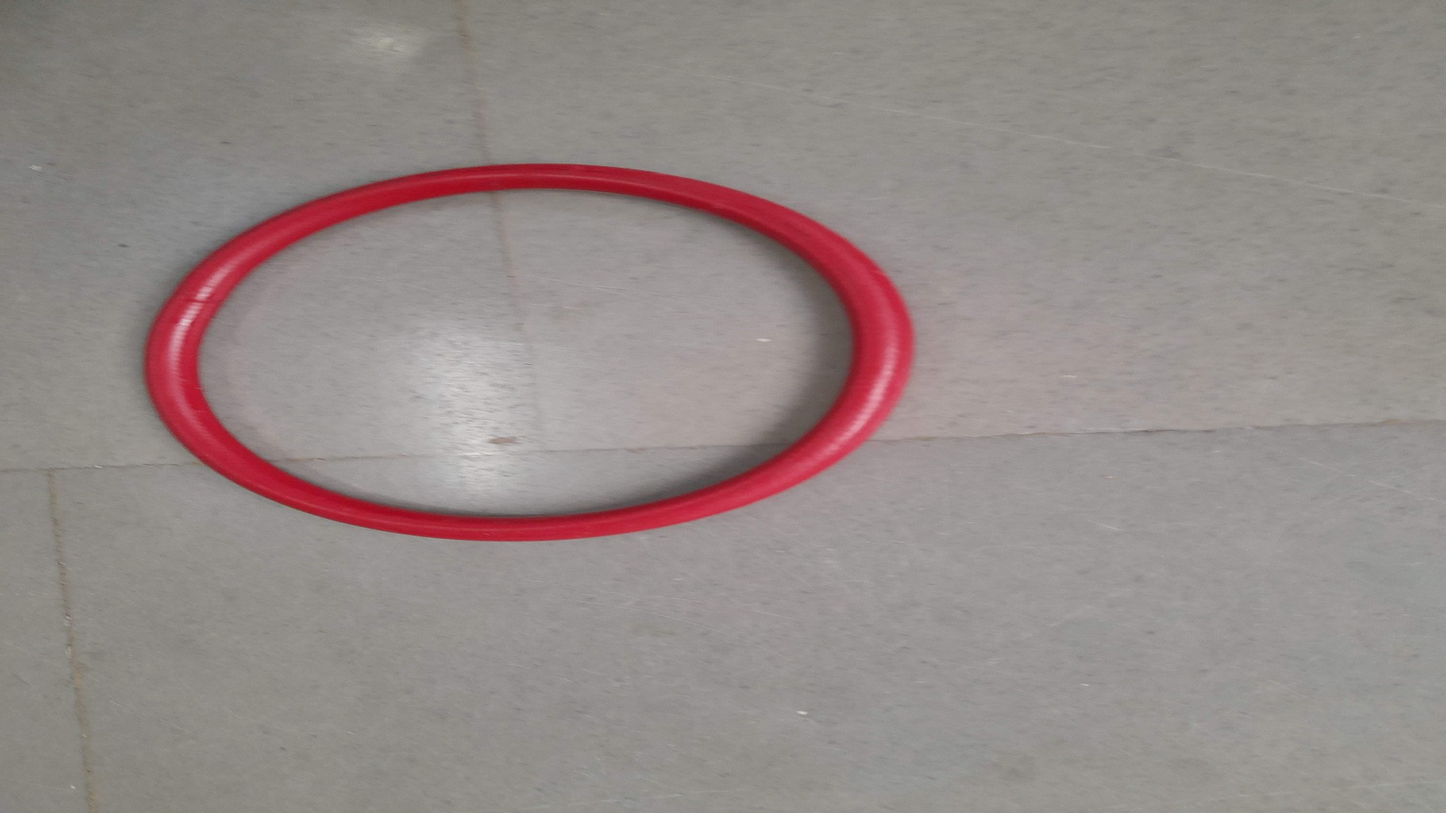Red ring: (147, 167, 913, 540)
